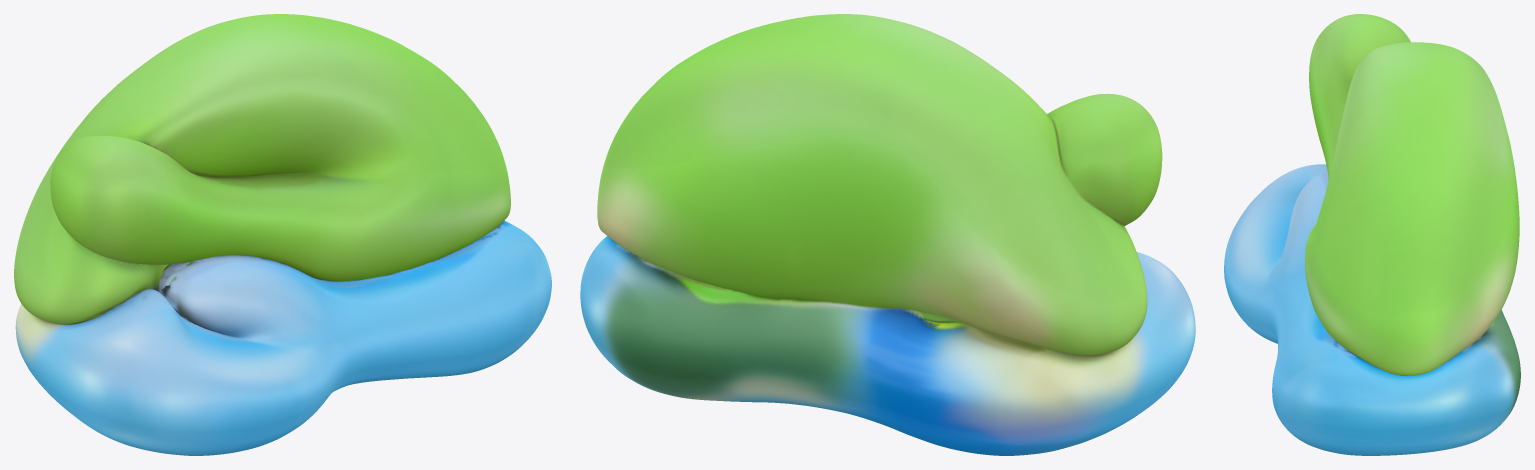
Rendered from base_basic_shaded.fbx.
3 renders of one model, left to right at view 1: azimuth 30°, elevation 25°; view 2: azimuth 150°, elevation 25°; view 3: azimuth 270°, elevation 25°, orthographic. The views are drawn at different scales.
Parts seen in each view (by area): view 1: model; view 2: model; view 3: model.
Part boxes in pixels (x1,y1,x2,y2): model: (14, 14, 551, 455); model: (580, 14, 1195, 455); model: (1224, 14, 1520, 455).
Bounding box in the file's own units: 184 × 127 × 108.
